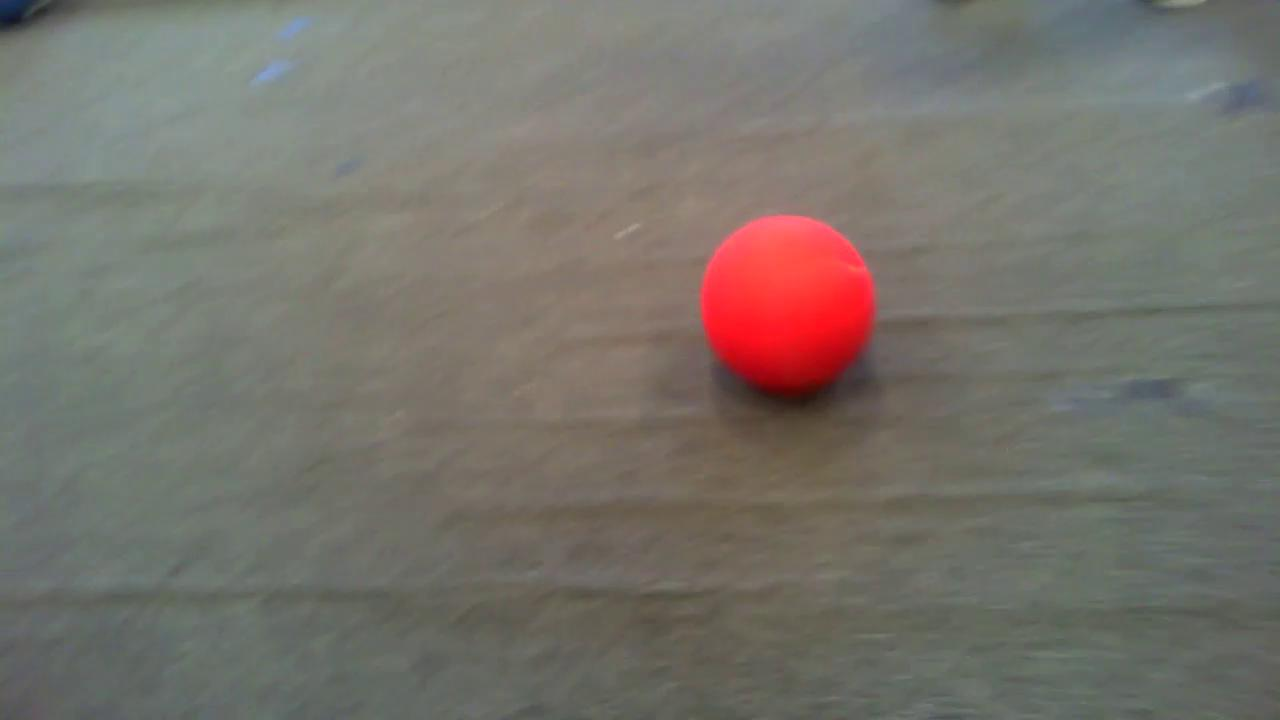Red_Ball: (672, 192, 885, 416)
